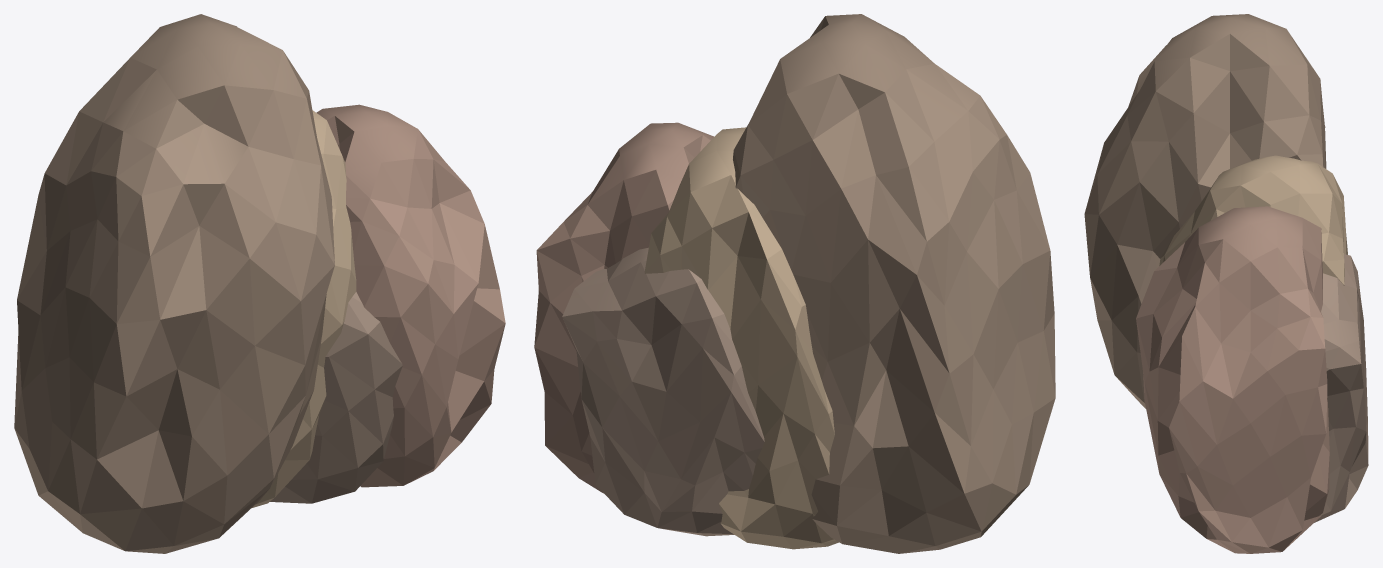
File: Aiguille_1.fbx
The picture shows the model from 3 angles, left to right: view 1: azimuth 30°, elevation 25°; view 2: azimuth 150°, elevation 25°; view 3: azimuth 270°, elevation 25°; orthographic projection. The views are drawn at different scales.
Visible parts, largest first — view 1: Aiguille_1; view 2: Aiguille_1; view 3: Aiguille_1.
Boxes of the visible parts, x1,y1,x2,y2 form: Aiguille_1: (14, 14, 505, 553); Aiguille_1: (534, 14, 1055, 553); Aiguille_1: (1084, 14, 1368, 553).
Size of the model in its own units: 233 by 264 by 151.
